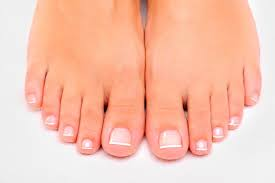Feet: (25, 1, 144, 157), (148, 2, 262, 160)
